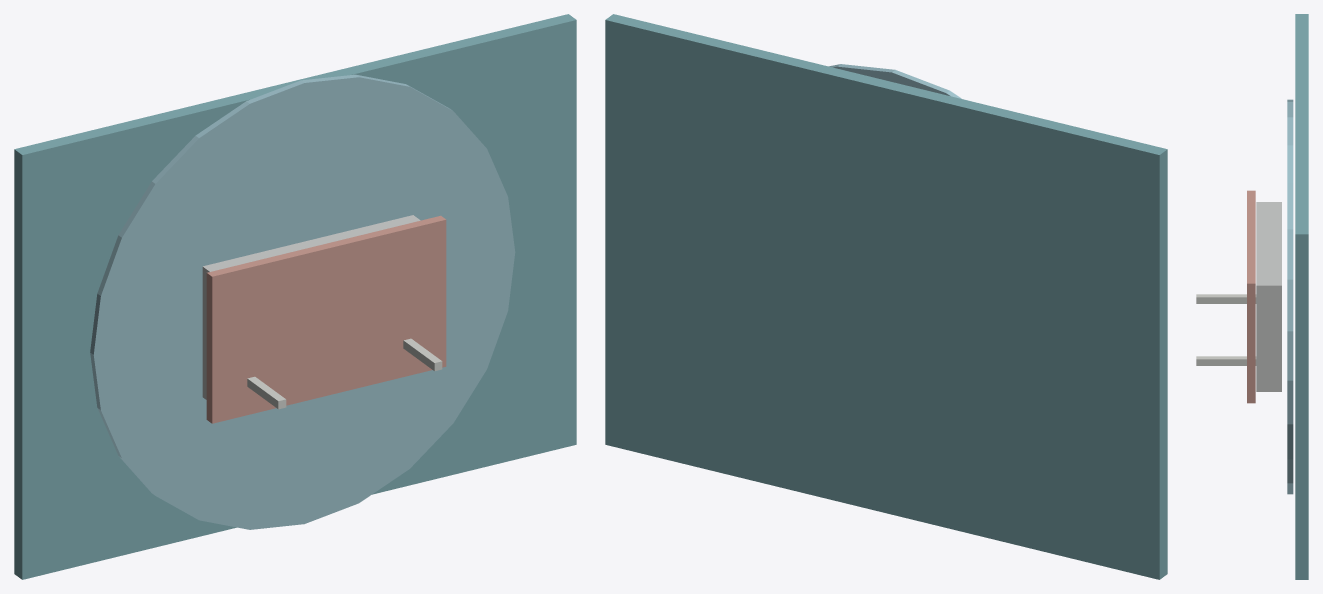
3 views of the same model, side by side, from view 1: azimuth 30°, elevation 25°; view 2: azimuth 150°, elevation 25°; view 3: azimuth 270°, elevation 25° (orthographic). The views are drawn at different scales.
Parts seen in each view (by area): view 1: section_01, section_00, section_03, section_02; view 2: section_00, section_01; view 3: section_00, section_02, section_01, section_03, section_04, section_05.
Boxes of the visible parts, left/top/right/bottom form: section_01: left=90, top=74, right=515, bottom=529; section_00: left=14, top=14, right=576, bottom=579; section_03: left=206, top=215, right=446, bottom=423; section_02: left=202, top=215, right=420, bottom=399; section_00: left=605, top=14, right=1167, bottom=579; section_01: left=829, top=64, right=961, bottom=98; section_00: left=1295, top=14, right=1308, bottom=579; section_02: left=1256, top=202, right=1281, bottom=391; section_01: left=1287, top=99, right=1293, bottom=494; section_03: left=1247, top=190, right=1255, bottom=403; section_04: left=1196, top=294, right=1256, bottom=303; section_05: left=1196, top=356, right=1256, bottom=365.
Size of the model in its own units: 7.1 by 5.4 by 1.53.
